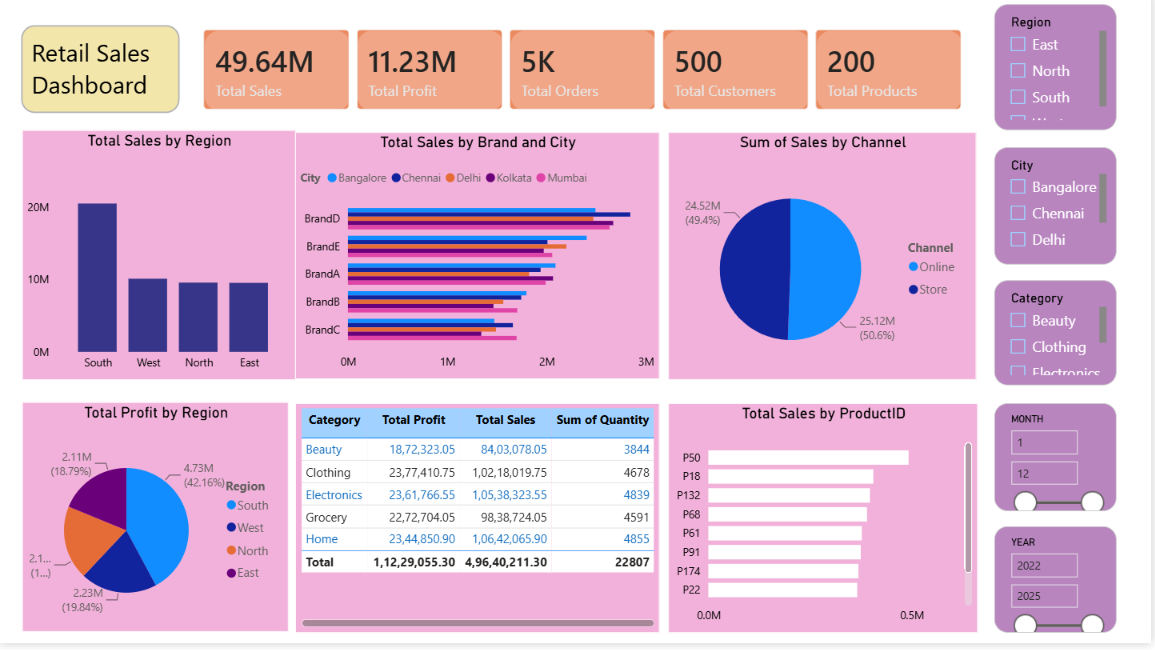

Layout of this report page (visuals, bound fields, positions):
{"tool":"powerbi","page":{"name":"Overview","canvas":[1280,720],"ordinal":0},"visuals":[{"type":"slicer","fields":{"Values":["Dim Customer.Region"]},"box":[1105.7,10,135.7,140],"z":0},{"type":"slicer","fields":{"Values":["Dim Product.Category"]},"box":[1105.7,317.1,135.7,117.1],"z":1000},{"type":"slicer","fields":{"Values":["Dim Calender.MONTH"]},"box":[1105.7,452.9,135.7,120],"z":2000},{"type":"slicer","fields":{"Values":["Dim Calender.YEAR"]},"box":[1105.7,590,135.7,118.6],"z":3000},{"type":"slicer","fields":{"Values":["Dim Customer.City"]},"box":[1105.7,168.6,135.7,130],"z":4000},{"type":"textbox","box":[24.7,32.9,175.6,97.4],"z":5000},{"type":"cardVisual","fields":{"Data":["Fact Sales.Total Sales","Fact Sales.Total Profit","Fact Sales.Total Orders","Fact Sales.Total Customers","Fact Sales.Total Products"]},"box":[209.9,20.6,876.8,123.5],"z":6000},{"type":"columnChart","title":"Total Sales by Region","fields":{"Category":["Dim Customer.Region"],"Y":["Sum(Fact Sales.Sales)"]},"box":[25,150,303.8,277.5],"z":7000},{"type":"pieChart","fields":{"Category":["Dim Customer.Region"],"Y":["Fact Sales.Total Profit"]},"box":[25,452.5,296.2,255],"z":8000},{"type":"clusteredBarChart","fields":{"Category":["Dim Product.Brand"],"Series":["Dim Customer.City"],"Y":["Fact Sales.Total Sales"]},"box":[329.3,152.3,404.8,274.4],"z":9000},{"type":"tableEx","fields":{"Values":["Dim Product.Category","Fact Sales.Total Profit","Fact Sales.Total Sales","Sum(Fact Sales.Quantity)"]},"box":[329.3,452.8,404.8,255.2],"z":10000},{"type":"pieChart","fields":{"Category":["Dim Store.Channel"],"Y":["Sum(Fact Sales.Sales)"]},"box":[743.8,152.5,342.5,275],"z":11000},{"type":"barChart","fields":{"Category":["Dim Product.ProductID"],"Y":["Fact Sales.Total Sales"]},"box":[743.7,452.8,344,255],"z":12000}]}

Visuals, with their boxes in screenshot pixels (x1, y1, x2, y2), scaled from the page's 1280x720 canvas onto the 1155x650 screenshot:
slicer - Dim Customer.Region: box(998, 9, 1120, 135)
slicer - Dim Product.Category: box(998, 286, 1120, 392)
slicer - Dim Calender.MONTH: box(998, 409, 1120, 517)
slicer - Dim Calender.YEAR: box(998, 533, 1120, 640)
slicer - Dim Customer.City: box(998, 152, 1120, 270)
textbox: box(22, 30, 181, 118)
cardVisual - Fact Sales.Total Sales x Fact Sales.Total Profit: box(189, 19, 981, 130)
"Total Sales by Region" columnChart: box(23, 135, 297, 386)
pieChart - Dim Customer.Region x Fact Sales.Total Profit: box(23, 409, 290, 639)
clusteredBarChart - Dim Product.Brand x Dim Customer.City: box(297, 137, 662, 385)
tableEx - Dim Product.Category x Fact Sales.Total Profit: box(297, 409, 662, 639)
pieChart - Dim Store.Channel x Sum(Fact Sales.Sales): box(671, 138, 980, 386)
barChart - Dim Product.ProductID x Fact Sales.Total Sales: box(671, 409, 981, 639)
